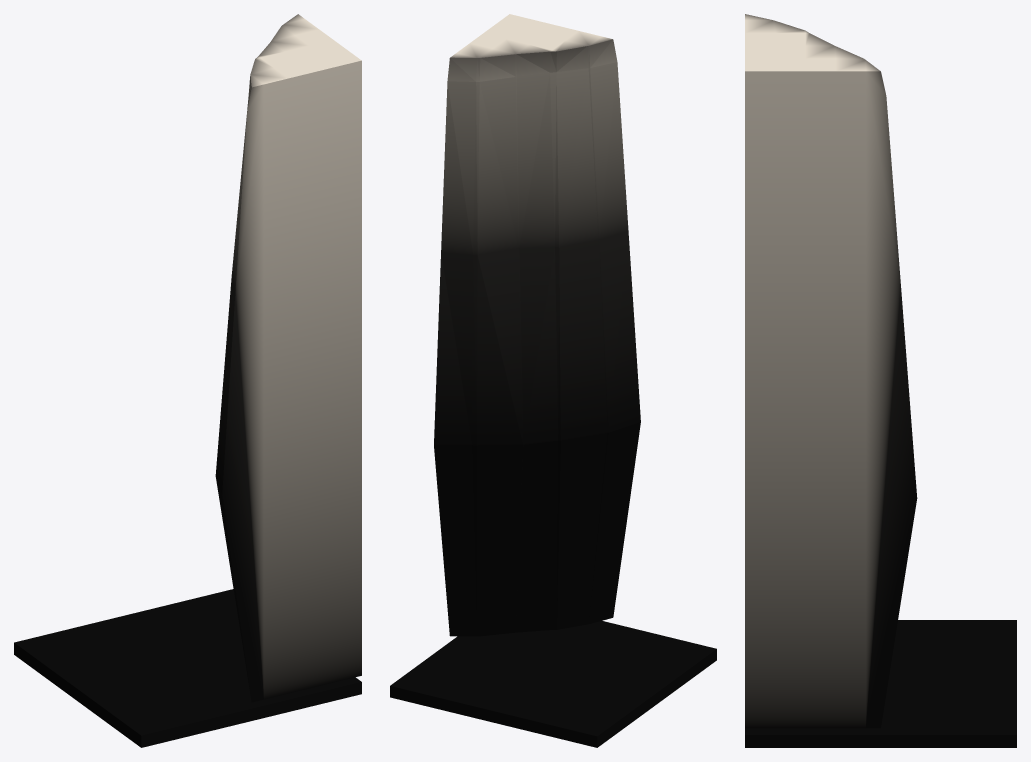
File: SM_VKI_Ground_Cave_XOXX_Q10.fbx
The picture shows the model from 3 angles, left to right: view 1: azimuth 30°, elevation 25°; view 2: azimuth 150°, elevation 25°; view 3: azimuth 270°, elevation 25°; orthographic projection. The views are drawn at different scales.
Visible parts, largest first — view 1: SM_VKI_Ground_Cave_XOXX_Q10.001; view 2: SM_VKI_Ground_Cave_XOXX_Q10.001; view 3: SM_VKI_Ground_Cave_XOXX_Q10.001.
Boxes of the visible parts, x1,y1,x2,y2 form: SM_VKI_Ground_Cave_XOXX_Q10.001: [14, 14, 361, 747]; SM_VKI_Ground_Cave_XOXX_Q10.001: [390, 14, 716, 747]; SM_VKI_Ground_Cave_XOXX_Q10.001: [745, 14, 1016, 747].
Bounding box in the file's own units: 1.5 × 4.12 × 1.5.
